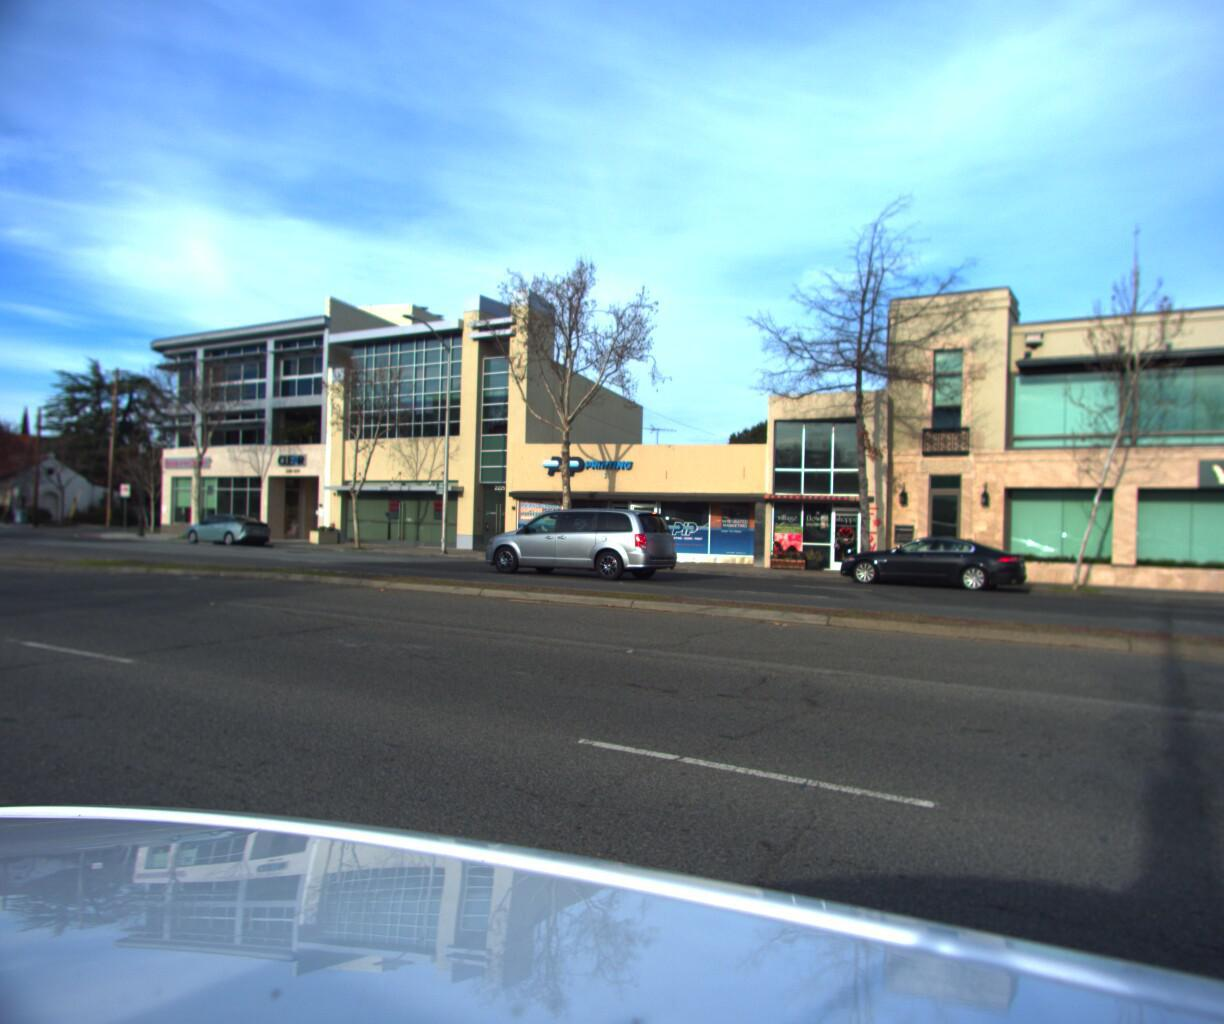car: (476, 501, 688, 588), (833, 531, 1028, 593), (174, 515, 272, 550)
